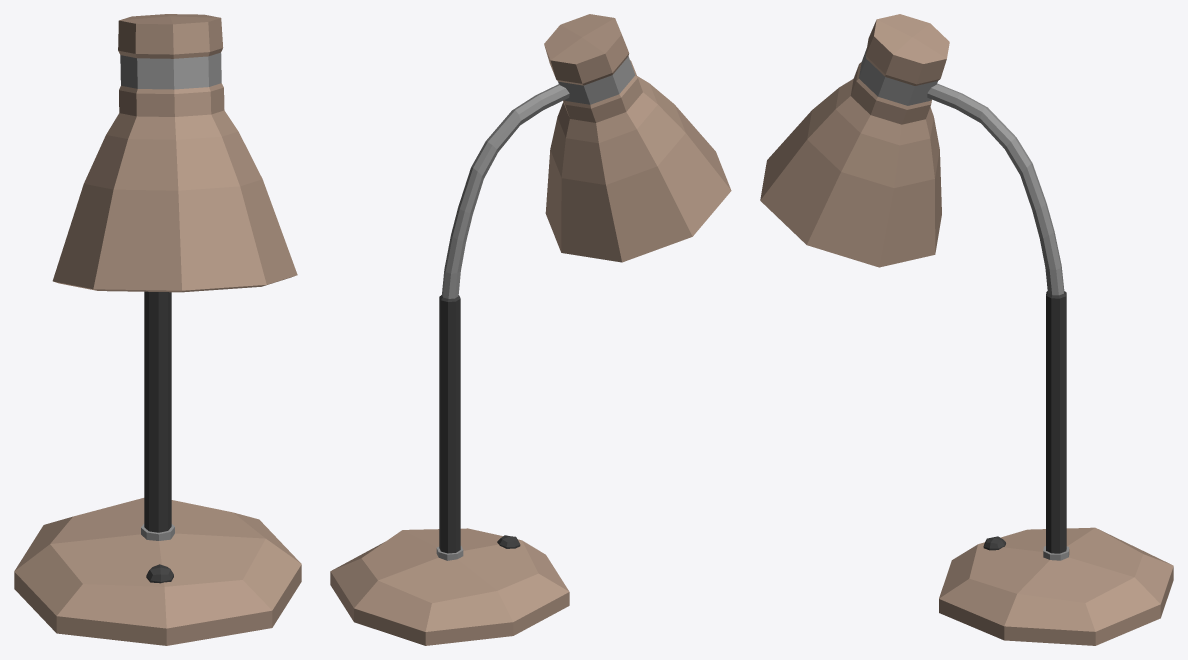
Rendered from Lamp_7.fbx.
3 views of the same model, side by side, from view 1: azimuth 30°, elevation 25°; view 2: azimuth 150°, elevation 25°; view 3: azimuth 270°, elevation 25° (orthographic). The views are drawn at different scales.
Parts seen in each view (by area): view 1: Lamp_7; view 2: Lamp_7; view 3: Lamp_7.
Part boxes in pixels (x1=…): Lamp_7: x1=14, y1=14, x2=301, y2=645; Lamp_7: x1=330, y1=14, x2=731, y2=645; Lamp_7: x1=760, y1=14, x2=1173, y2=645.
Size of the model in its own units: 42.01 by 55.59 by 79.95.
